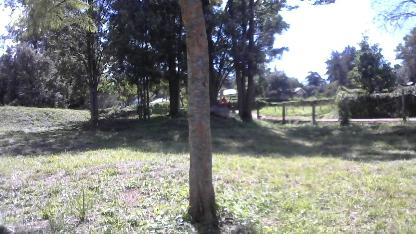tree: (174, 0, 224, 227)
